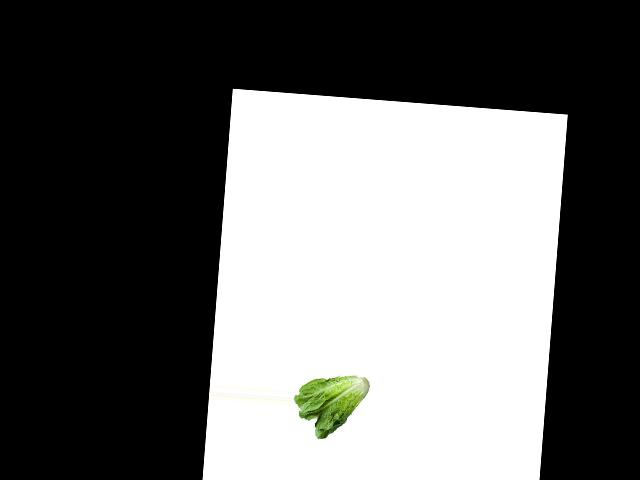lettuce: (289, 368, 370, 444)
